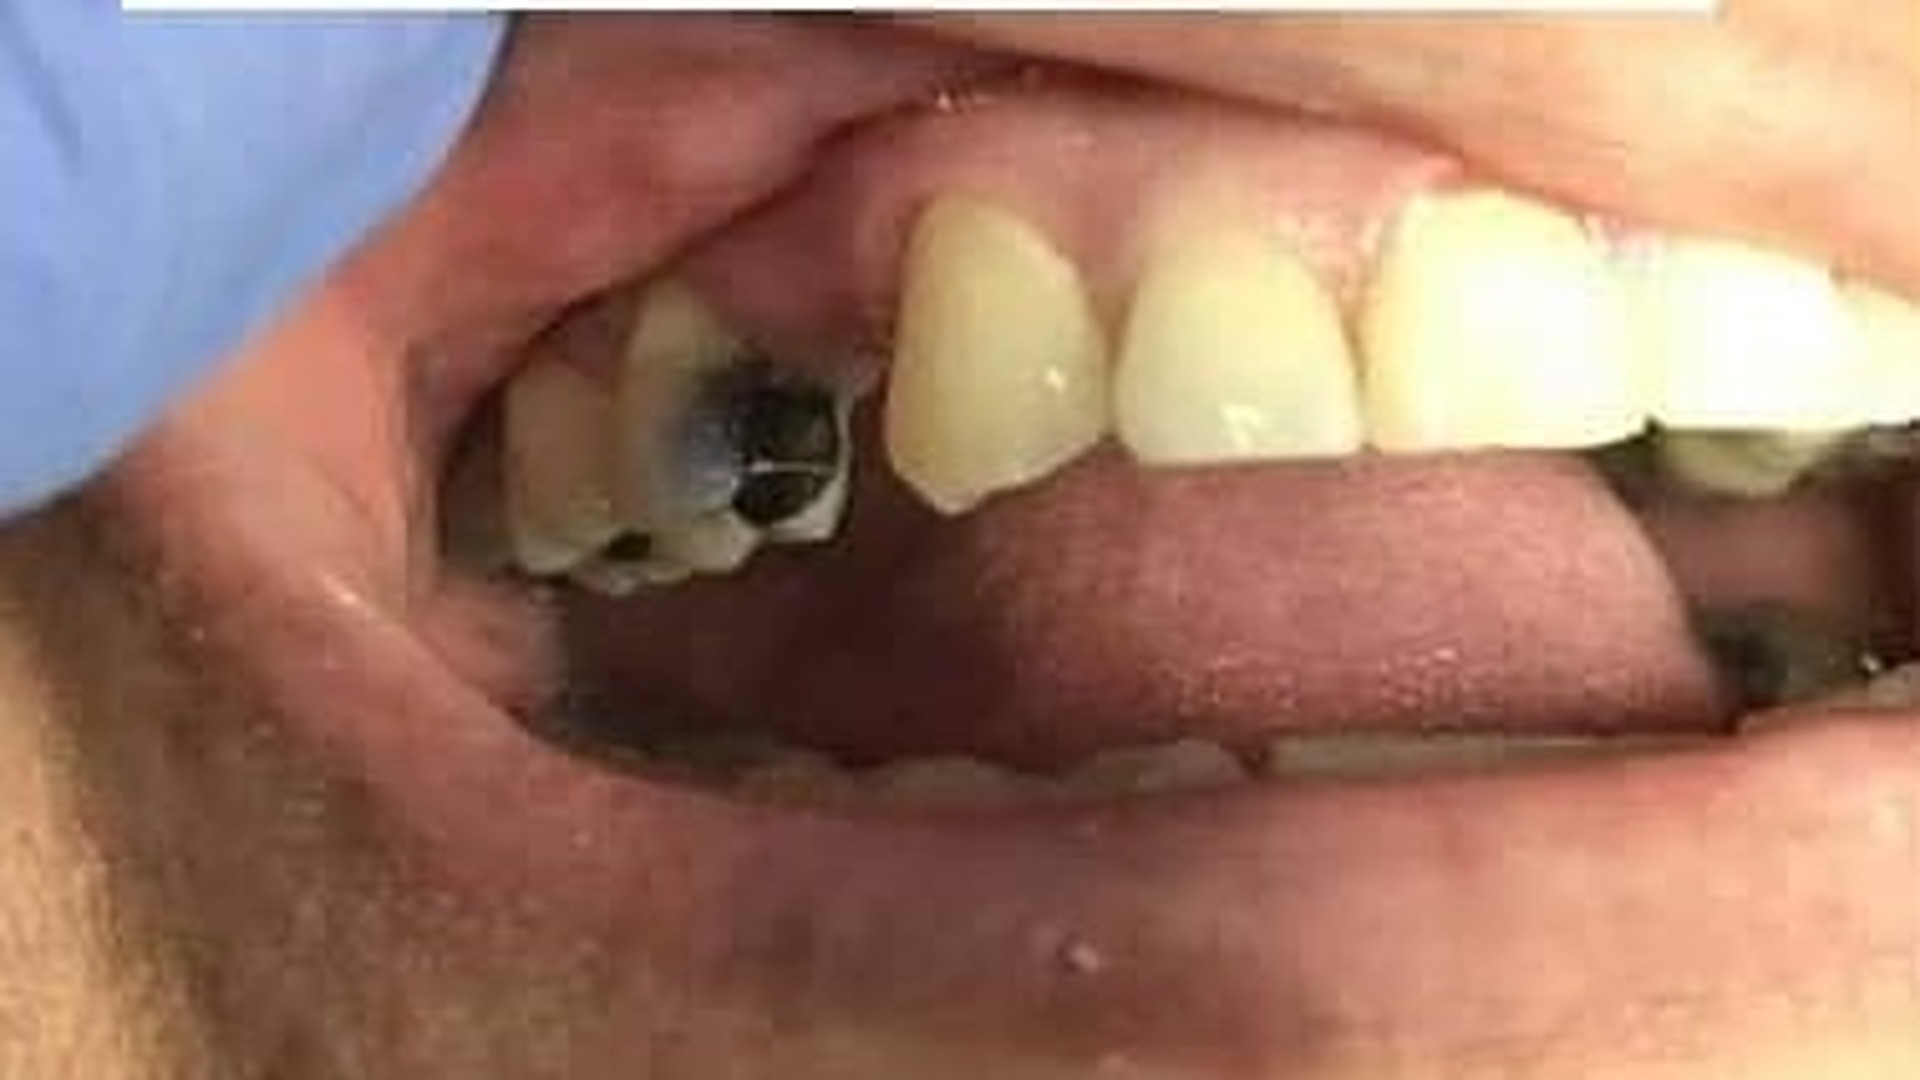tooth: (1360, 186, 1646, 448), (611, 301, 872, 576), (884, 194, 1106, 516), (1114, 231, 1365, 465), (1625, 248, 1870, 439), (502, 360, 694, 597)
